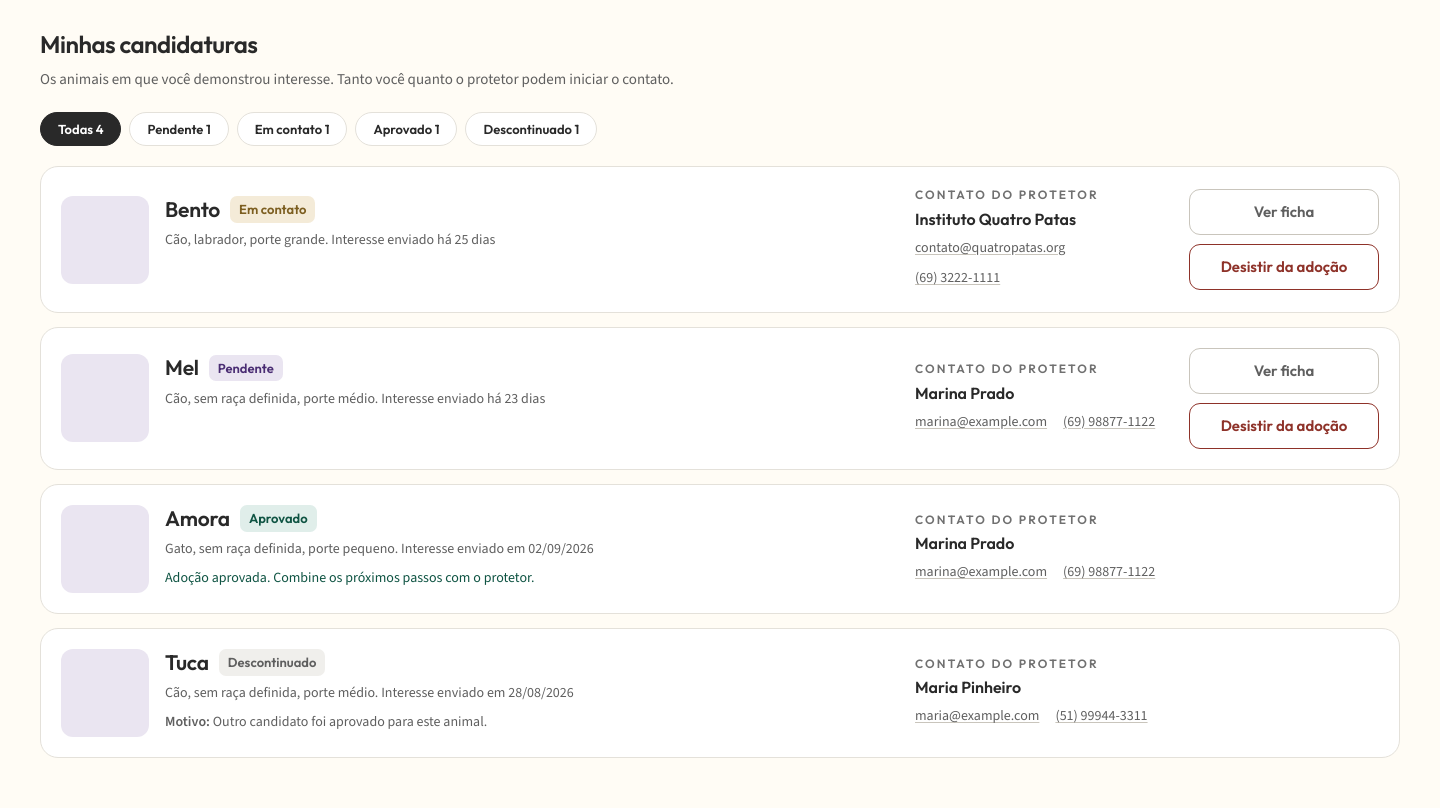
Test: desistir › pede confirmação, apaga o interesse e tira o cartão da lista
Check: the heading "Mel" is shown, box [165,354,199,382]
What coordinates should you click on to do the following:
click the button with aria-label "Desistir da adoção de Mel"
I would click on:
 (1284, 426)
Its box is [1189,403,1379,449].
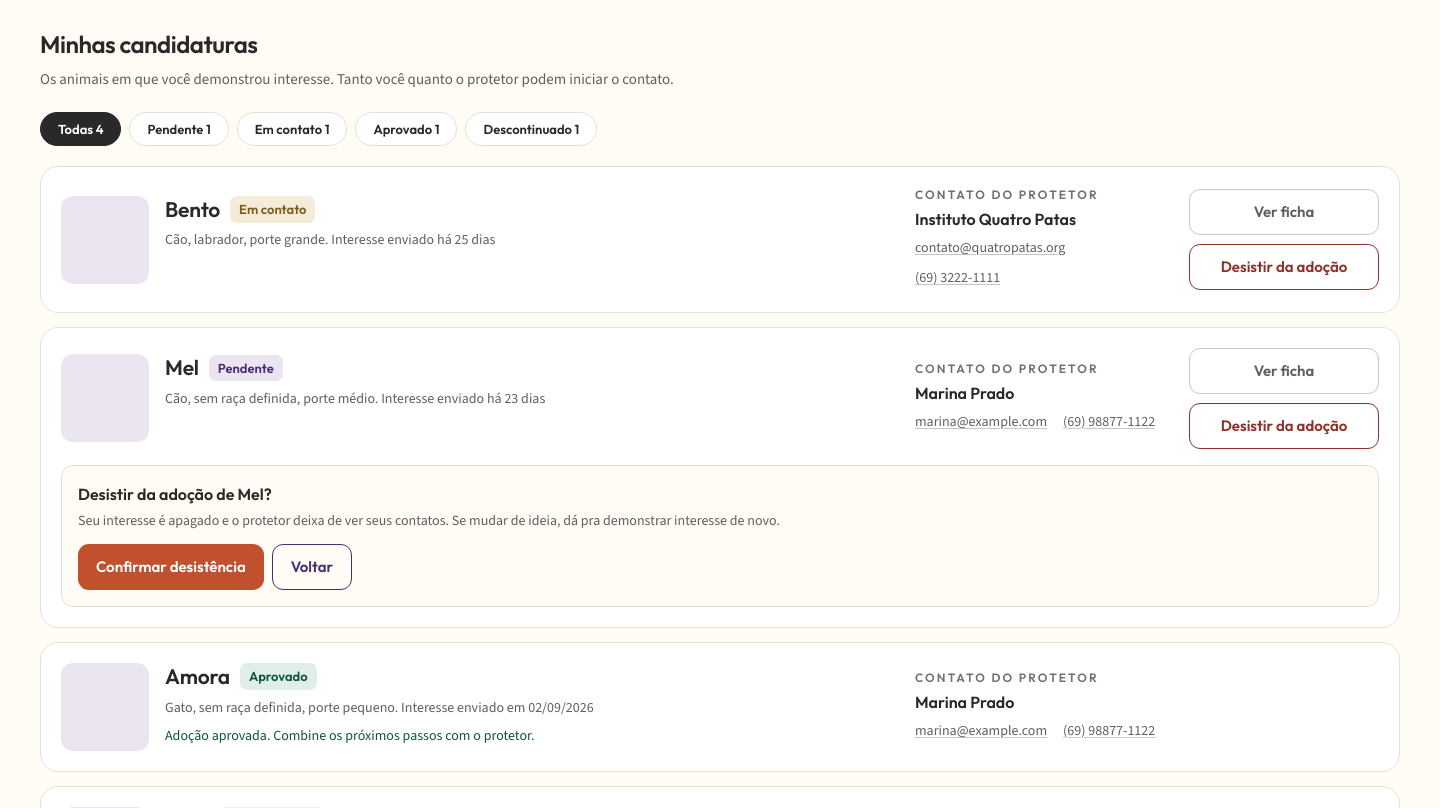
Check: the text "Desistir da adoção de Mel?" is shown, box [78,484,272,504]
What coordinates should you click on to do the following:
click the button "Confirmar desistência"
I would click on:
 (171, 567)
Its box is [78,544,264,590].
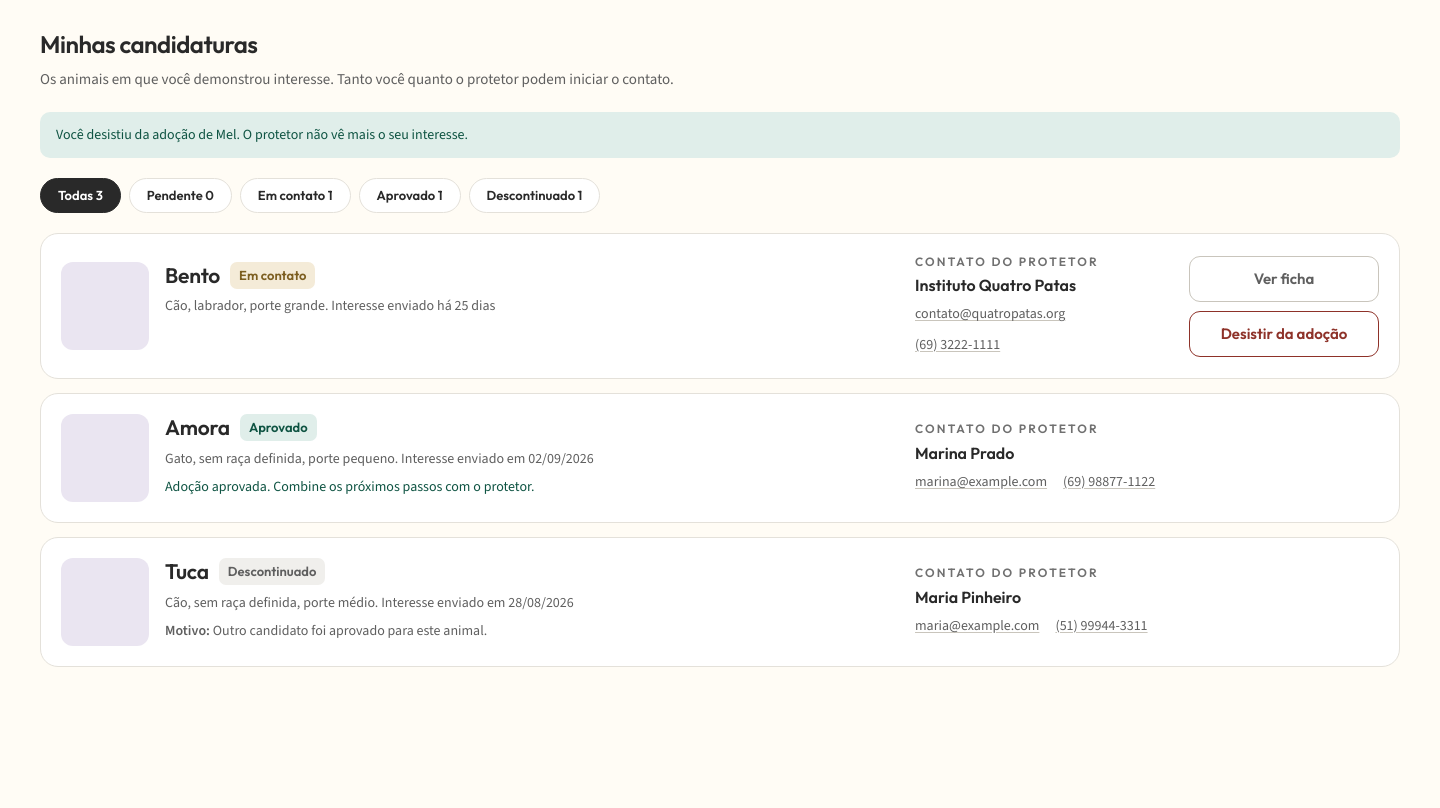
Check: the button "Todas 3" is shown, box [40,178,121,213]
